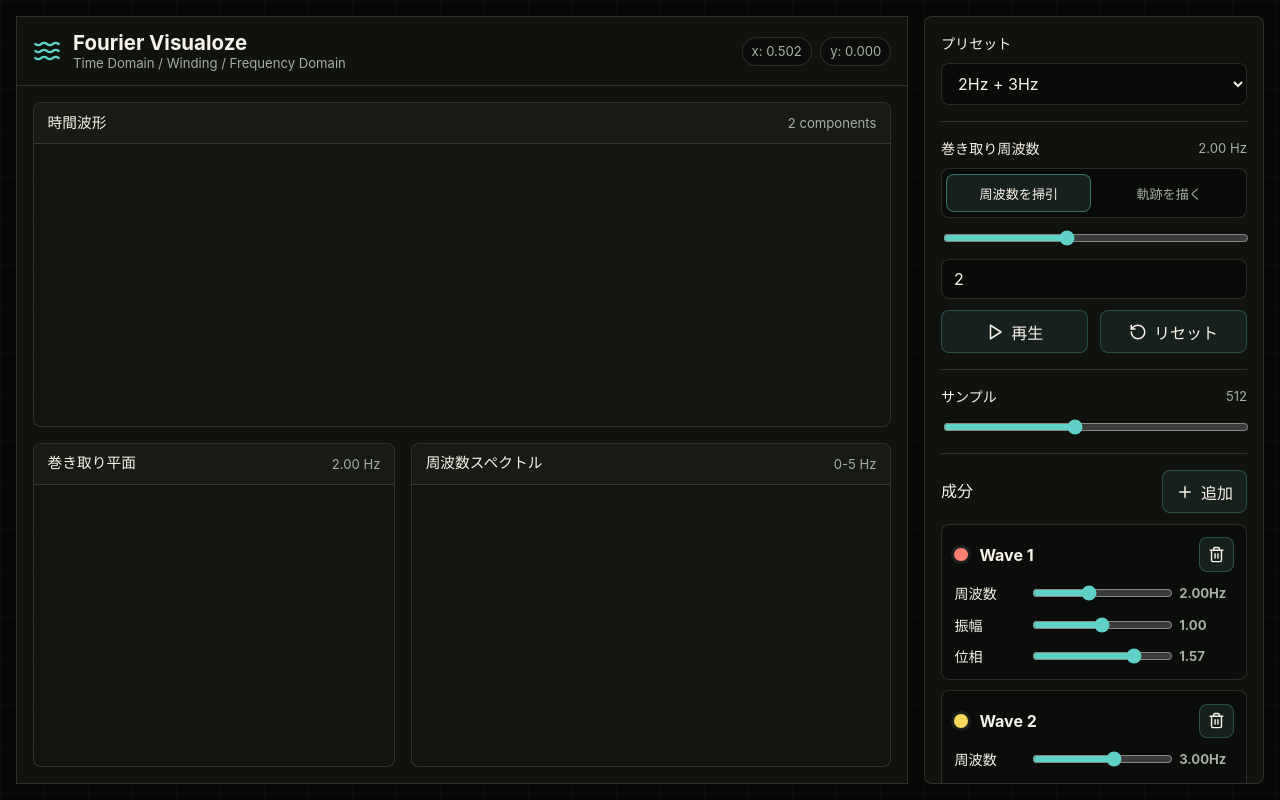
Scenario: App › switches presets and keeps the canvases synchronized with the selected frequency
Select "方形波風" in the dropdown labelled "プリセット" at (1094, 84), box [941,63,1247,105]
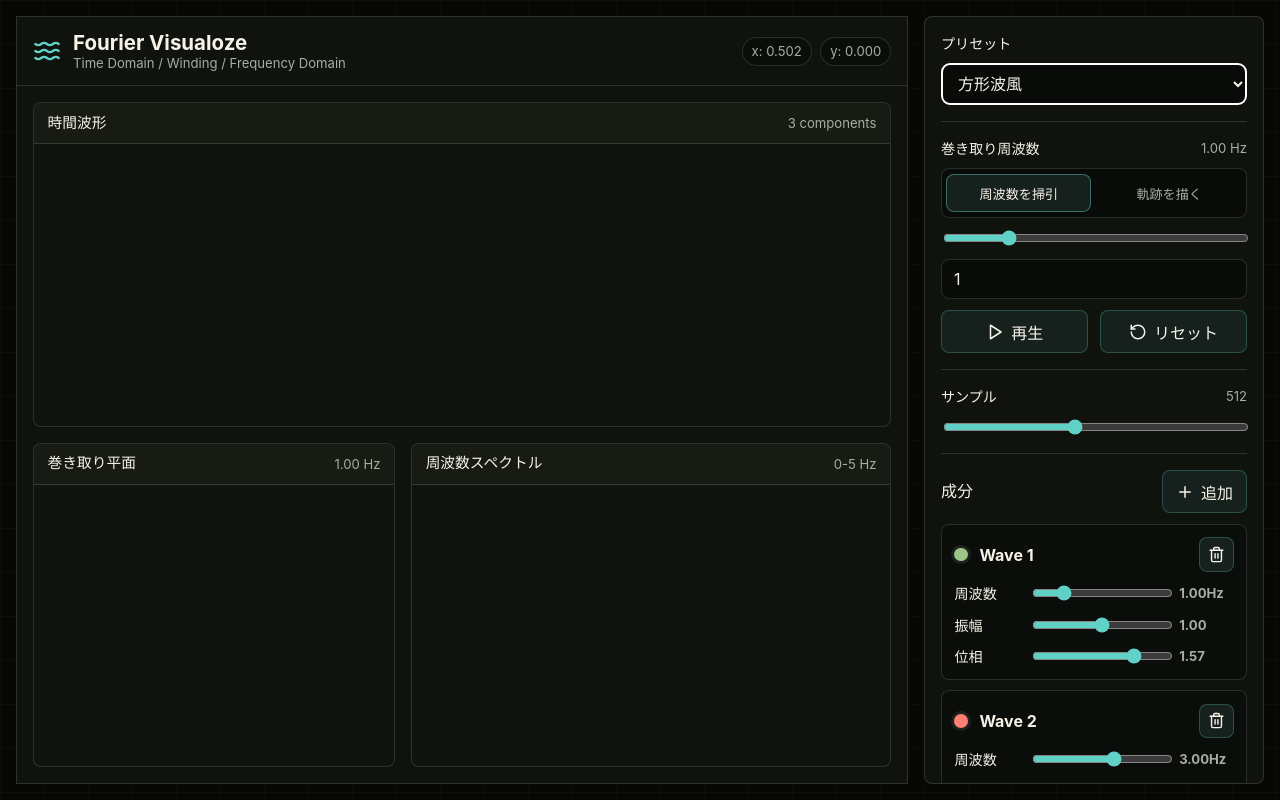
Expected: the text "3 components" is shown, [788,115,876,131]
Expected: the slider labelled "巻き取り周波数" holds "1", [943,230,1249,246]
Expected: the text "1.00 Hz" in the row of "巻き取り平面" is shown, [334,456,380,472]
